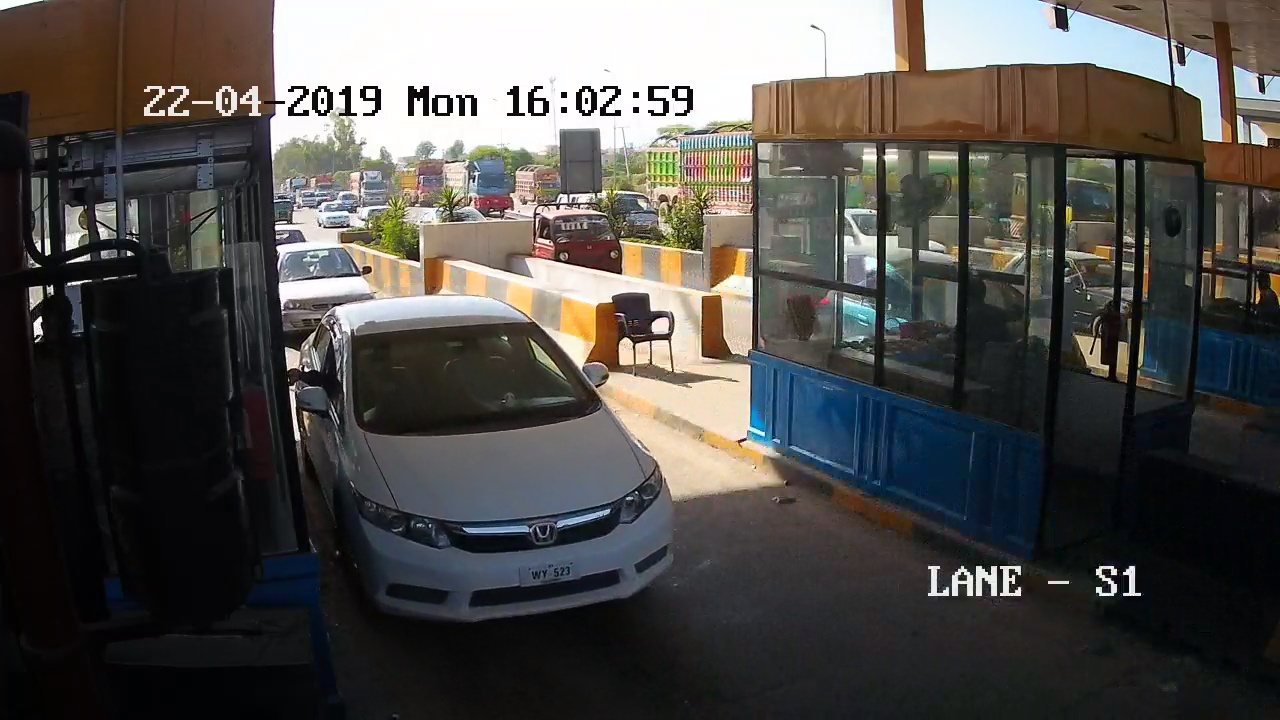Number Plate (Car): (517, 564, 581, 583)
